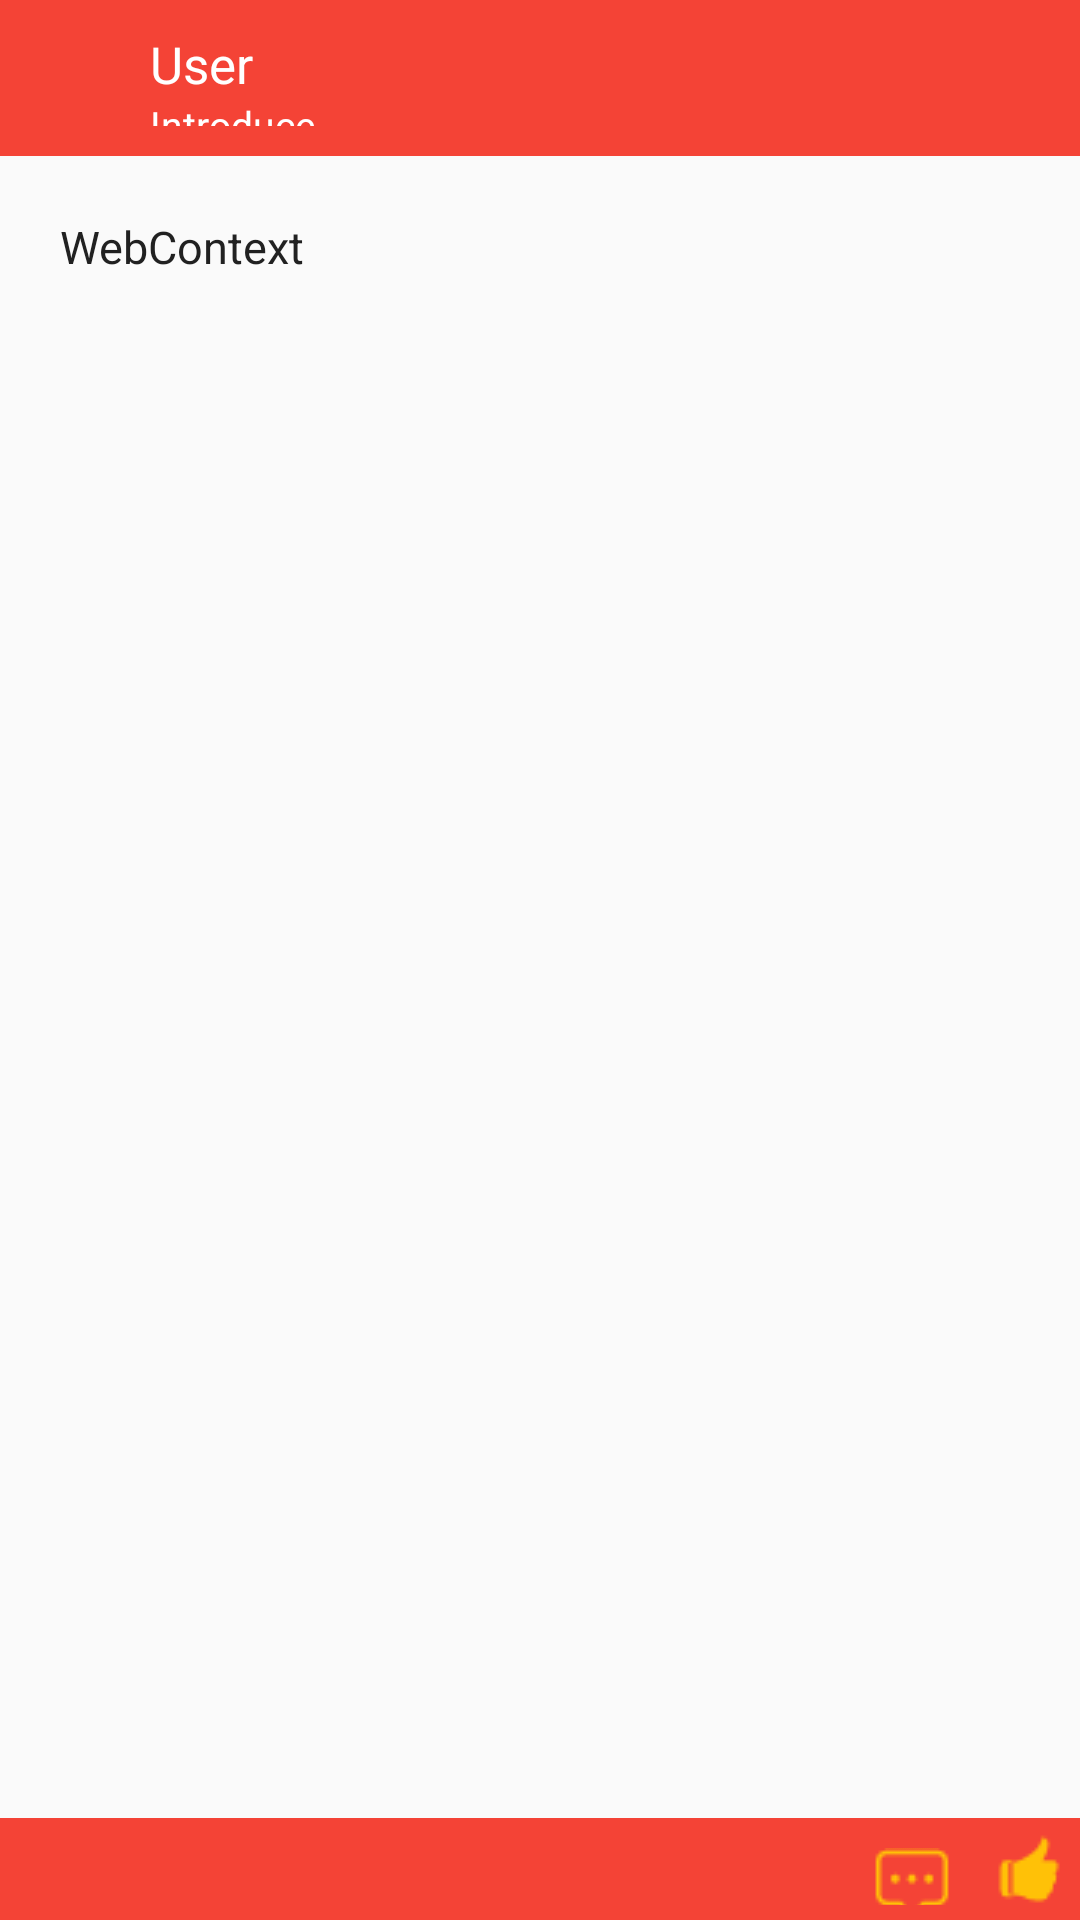

Screen size 1080 x 1920. Icon name, then its center in pixels as (x=x, y=y):
like: (x=1029, y=1869)
